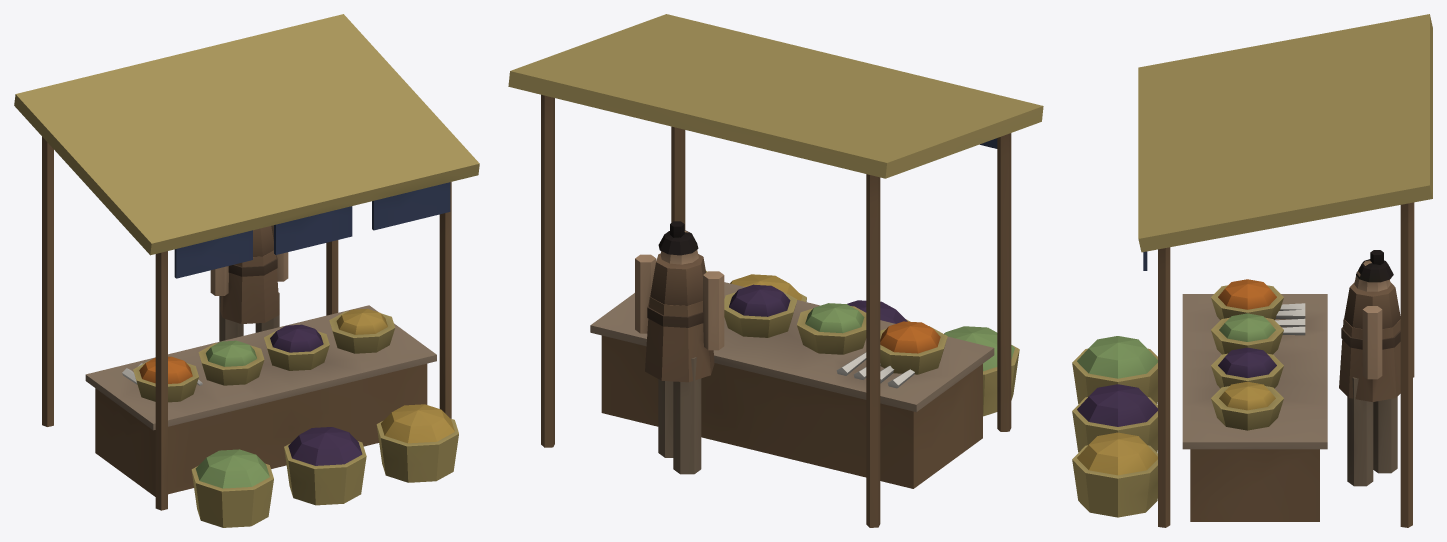
File: stall-fruit.glb
3 views of the same model, side by side, from view 1: azimuth 30°, elevation 25°; view 2: azimuth 150°, elevation 25°; view 3: azimuth 270°, elevation 25° (orthographic). The views are drawn at different scales.
Parts seen in each view (by area): view 1: base; view 2: base; view 3: base.
Boxes of the visible parts, left/top/right/bottom form: base: left=14, top=14, right=479, bottom=527; base: left=508, top=14, right=1043, bottom=527; base: left=1072, top=14, right=1432, bottom=527.
Bounding box in the file's own units: 2.66 × 2.55 × 2.37.
